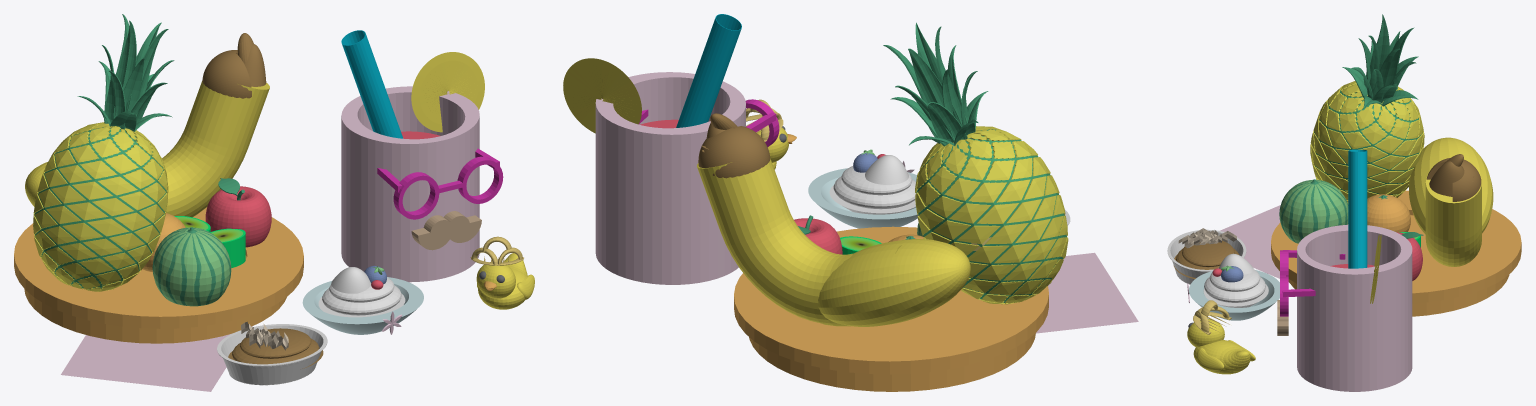
File: Charlotte G - Fruit Plate.glb
3 views of the same model, side by side, from view 1: azimuth 30°, elevation 25°; view 2: azimuth 150°, elevation 25°; view 3: azimuth 270°, elevation 25° (orthographic). The views are drawn at different scales.
Parts seen in each view (by area): view 1: Mesh_Mesh_head_geo.001_lambert2SG.001; view 2: Mesh_Mesh_head_geo.001_lambert2SG.001; view 3: Mesh_Mesh_head_geo.001_lambert2SG.001.
Boxes of the visible parts, x1,y1,x2,y2 form: Mesh_Mesh_head_geo.001_lambert2SG.001: (14, 14, 534, 391); Mesh_Mesh_head_geo.001_lambert2SG.001: (563, 14, 1138, 391); Mesh_Mesh_head_geo.001_lambert2SG.001: (1167, 14, 1521, 391).
Bounding box in the file's own units: 0.166 × 0.0982 × 0.1257.
